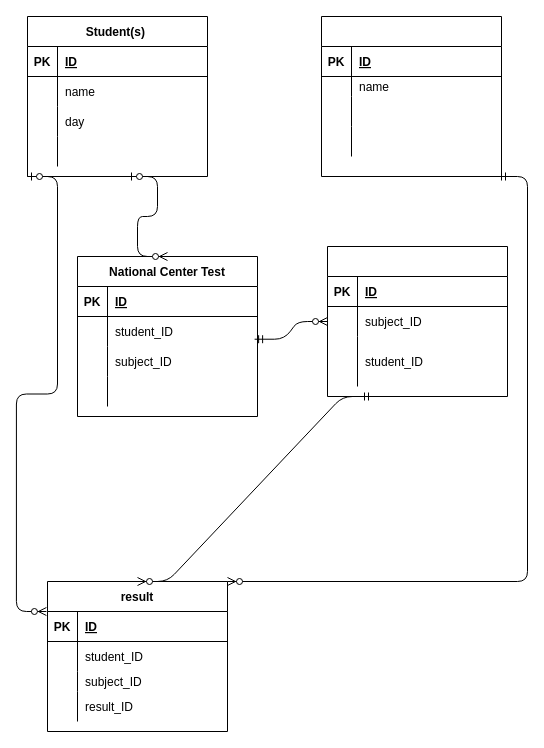
The diagram is 544 pixels wide and 748 high, and some of its shapes have lost their labels. Here are the shapes that lost their labels. From the top down, the box of each, then its label:
(320, 16, 502, 176): Teacher
(326, 246, 508, 396): Subject (科目）
